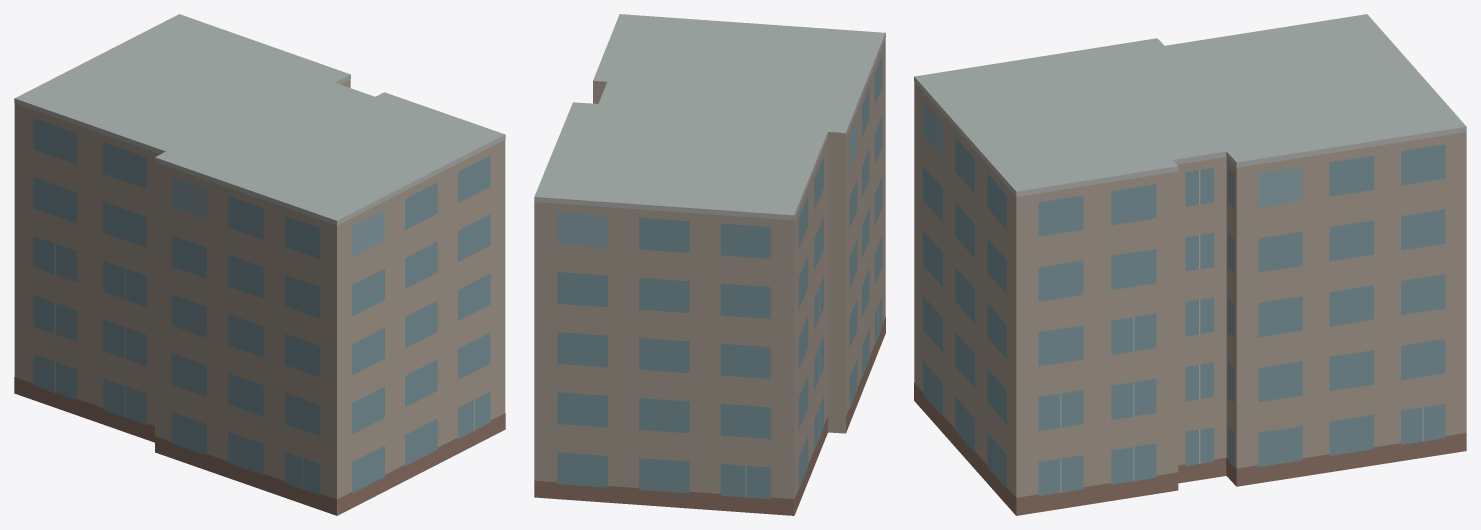
Rendered from survey-upis-32835006.glb.
3 renders of one model, left to right at view 1: azimuth 30°, elevation 25°; view 2: azimuth 150°, elevation 25°; view 3: azimuth 270°, elevation 25°, orthographic. The views are drawn at different scales.
Parts seen in each view (by area): view 1: survey-upis-32835006.tmp; view 2: survey-upis-32835006.tmp; view 3: survey-upis-32835006.tmp.
Boxes of the visible parts, x1,y1,x2,y2 form: survey-upis-32835006.tmp: (14, 14, 505, 515); survey-upis-32835006.tmp: (534, 14, 885, 515); survey-upis-32835006.tmp: (914, 14, 1466, 515).
Size of the model in its own units: 17.46 by 14.85 by 22.94.
